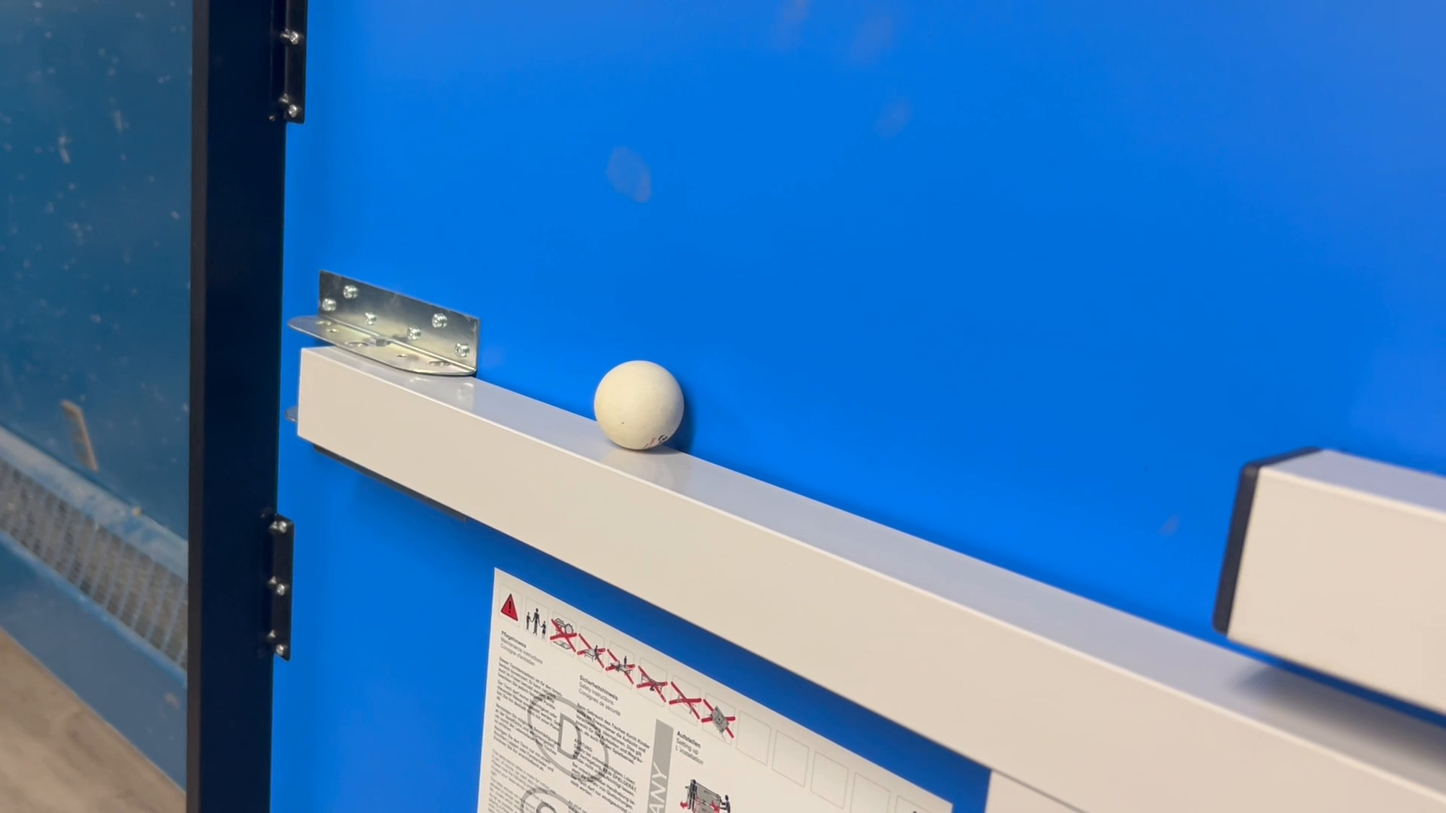Ball: (586, 361, 711, 451)
